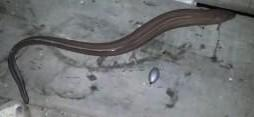fish: (8, 7, 238, 104)
